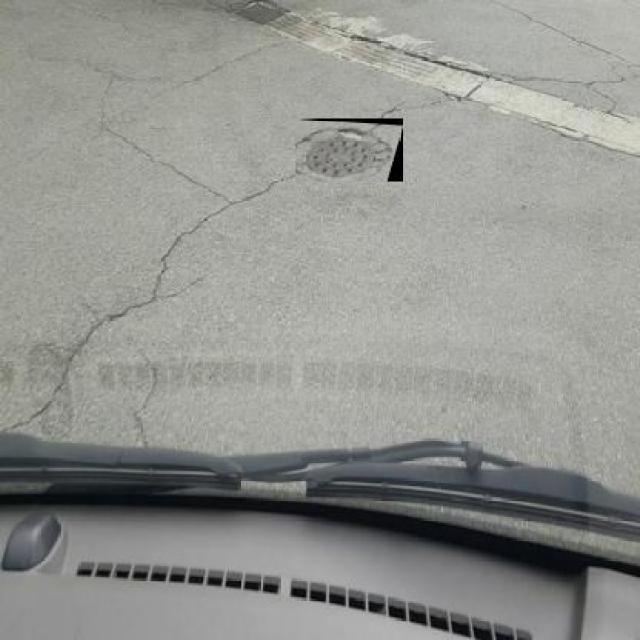Manhole: (295, 118, 403, 182)
